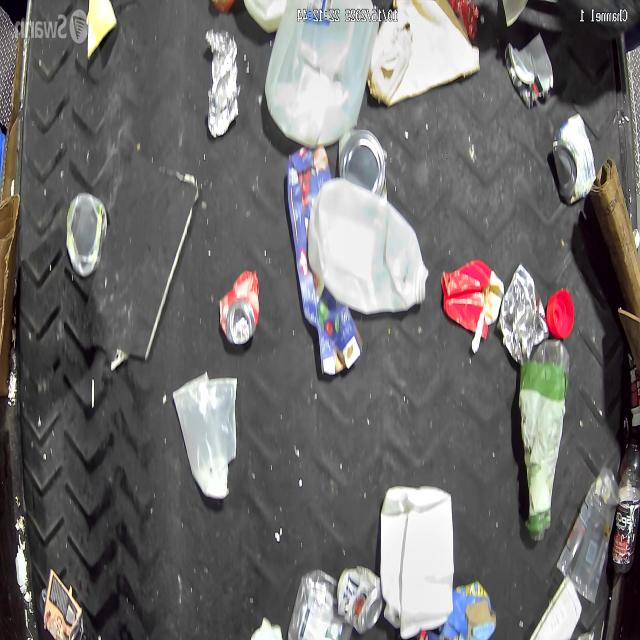can: (498, 263, 549, 364), (552, 111, 597, 209), (338, 128, 387, 198), (337, 563, 382, 636), (219, 268, 261, 346)
milk_jug: (309, 176, 426, 314), (264, 7, 376, 146)
plastic_bottle: (558, 467, 616, 602), (611, 432, 640, 574)
